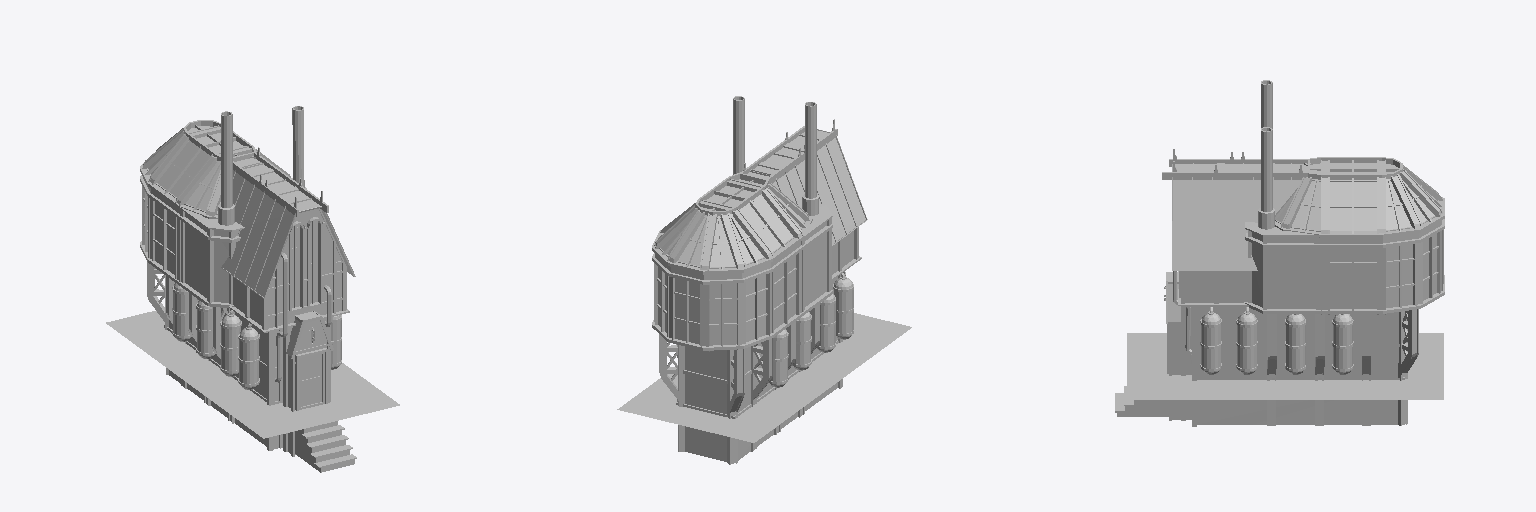
The model's file is HOUSE_LGH_TIR_1.obj.
3 views of the same model, side by side, from view 1: azimuth 30°, elevation 25°; view 2: azimuth 150°, elevation 25°; view 3: azimuth 270°, elevation 25° (orthographic).
Visible parts, largest first — view 1: Object024, Plane011, Object026, Object090, Shape376, Cylinder111, Box434, Sphere029, Box404, Circle088, Sphere041, Line091 (+6 smaller); view 2: Object026, Object024, Plane011, Object090, Cylinder111, Sphere029, Sphere041, Line091, Sphere042, Sphere043, Shape375, Shape376 (+1 smaller); view 3: Object024, Object026, Plane011, Object090, Shape376, Cylinder111, Line091, Sphere029, Sphere041, Sphere043, Sphere042, Box434 (+3 smaller).
Boxes of the visible parts, x1,y1,x2,y2 form: Object024: [169, 158, 353, 454]; Plane011: [106, 311, 399, 438]; Object026: [140, 120, 292, 423]; Object090: [148, 126, 317, 307]; Shape376: [180, 210, 346, 456]; Cylinder111: [218, 106, 306, 225]; Box434: [295, 421, 356, 472]; Sphere029: [238, 315, 341, 389]; Box404: [299, 352, 324, 409]; Circle088: [289, 217, 322, 312]; Sphere041: [220, 315, 241, 376]; Line091: [233, 152, 328, 216]; Object026: [652, 173, 832, 464]; Object024: [685, 130, 865, 461]; Plane011: [617, 313, 911, 442]; Object090: [658, 179, 803, 345]; Cylinder111: [733, 96, 818, 215]; Sphere029: [833, 278, 853, 339]; Sphere041: [817, 294, 835, 352]; Line091: [740, 126, 837, 183]; Sphere042: [792, 312, 811, 370]; Sphere043: [769, 329, 788, 387]; Shape375: [655, 242, 800, 279]; Shape376: [801, 218, 858, 388]; Object024: [1168, 164, 1398, 424]; Object026: [1244, 157, 1444, 425]; Plane011: [1127, 333, 1443, 399]; Object090: [1276, 163, 1437, 308]; Shape376: [1169, 230, 1320, 426]; Cylinder111: [1258, 80, 1274, 229]; Line091: [1162, 159, 1307, 179]; Sphere029: [1200, 313, 1221, 374]; Sphere041: [1236, 313, 1257, 374]; Sphere043: [1332, 314, 1353, 374]; Sphere042: [1285, 314, 1306, 374]; Box434: [1115, 386, 1168, 416].
Bounding box in the file's own units: 64.31 × 140 × 134.